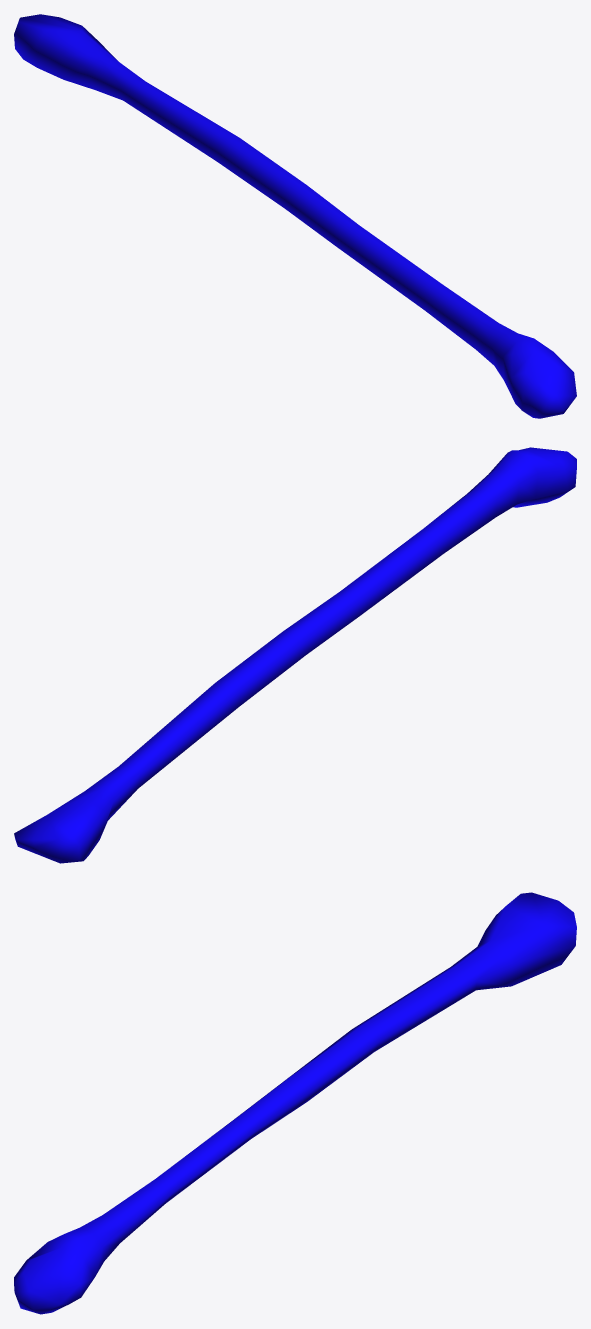
The model's file is SM_R_Fibula.FBX.
The picture shows the model from 3 angles, top to bottom: view 1: azimuth 30°, elevation 25°; view 2: azimuth 150°, elevation 25°; view 3: azimuth 330°, elevation 25°; orthographic projection. The views are drawn at different scales.
Parts seen in each view (by area): view 1: R_Fibula; view 2: R_Fibula; view 3: R_Fibula.
Part boxes in pixels (left/top/right/bottom): R_Fibula: left=14, top=14, right=576, bottom=418; R_Fibula: left=14, top=447, right=576, bottom=863; R_Fibula: left=14, top=892, right=576, bottom=1314.
Size of the model in its own units: 3.47 by 2.59 by 42.82.
